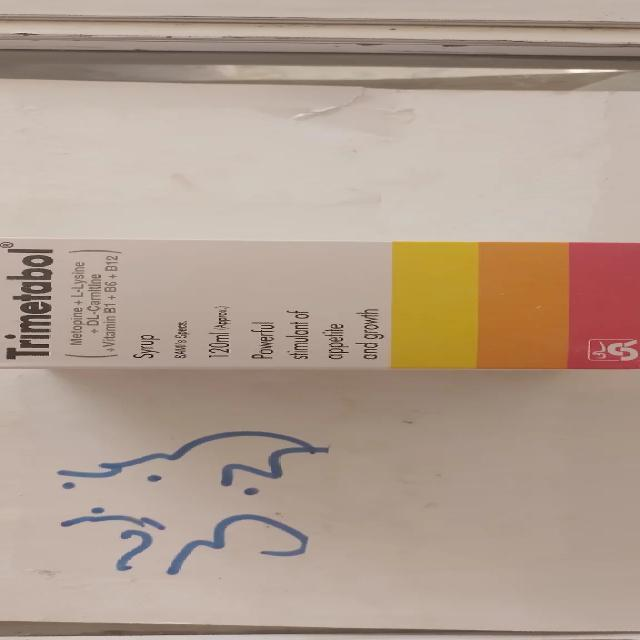drug-name: (0, 240, 55, 360)
